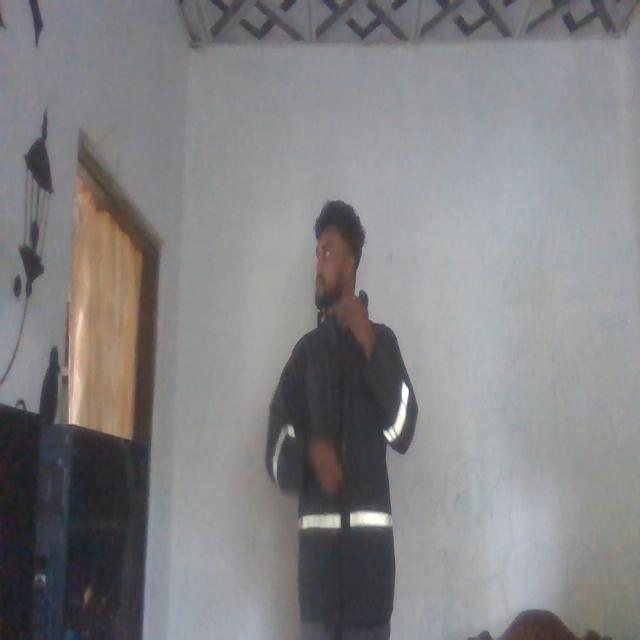Jacket_Wearer: (266, 311, 417, 640)
Person: (265, 193, 415, 640)
